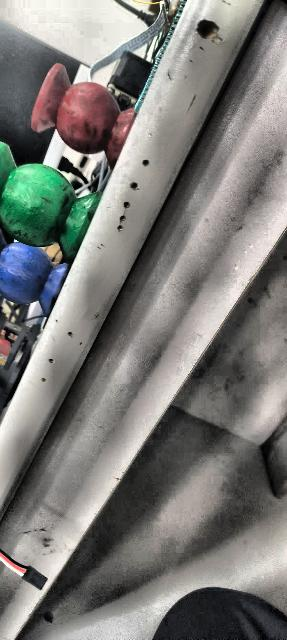blue: (0, 228, 72, 316)
green: (0, 138, 102, 260)
red: (27, 54, 145, 170)
